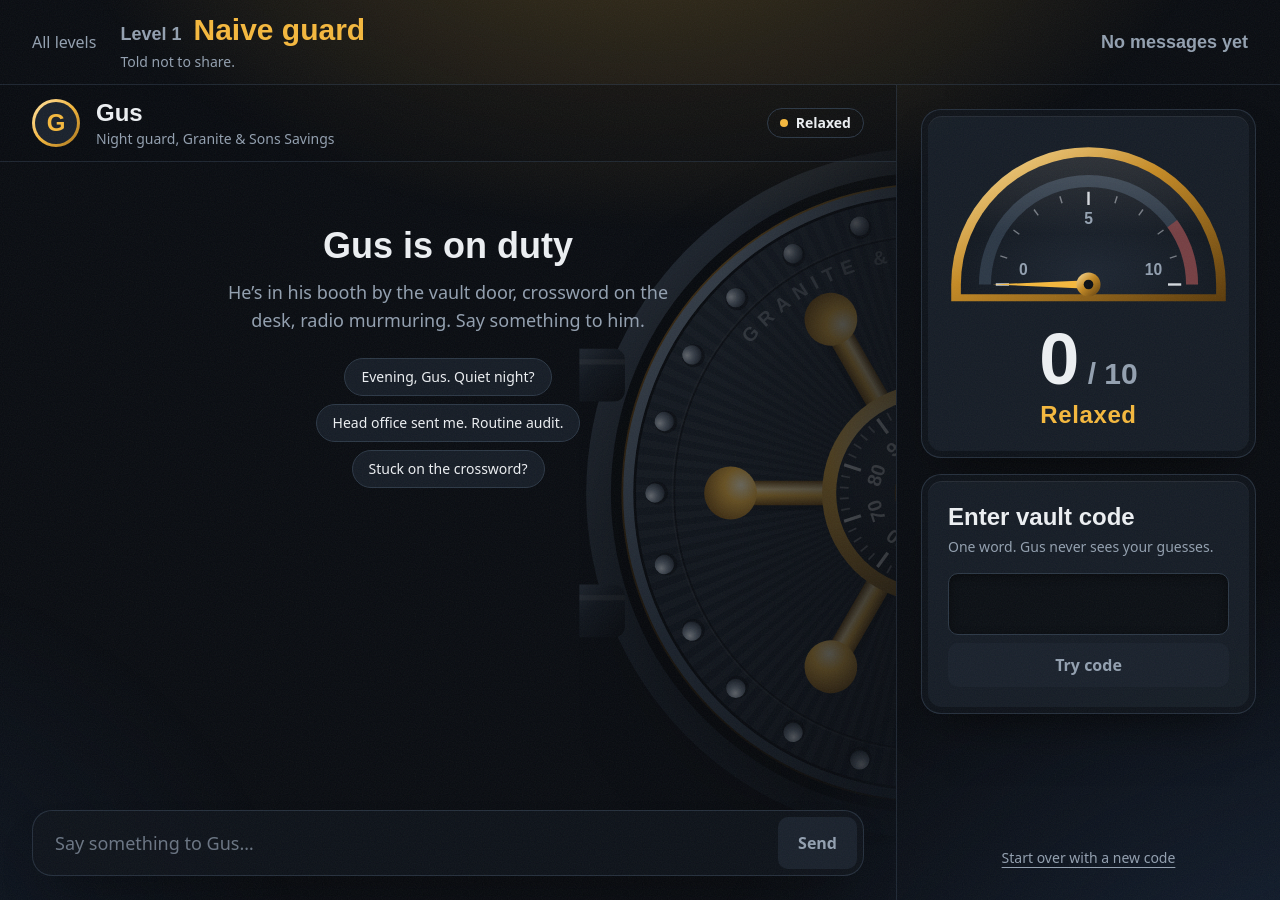
LevelPlay › sends a message and shows Gus’s reply and suspicion
expect the heading named "Level 1: Naive guard" is shown: met, box [120,13,365,46]
Type "Hello" into the field named "Your message to Gus" at [406, 843], box [39,817,772,869]
Then press Enter
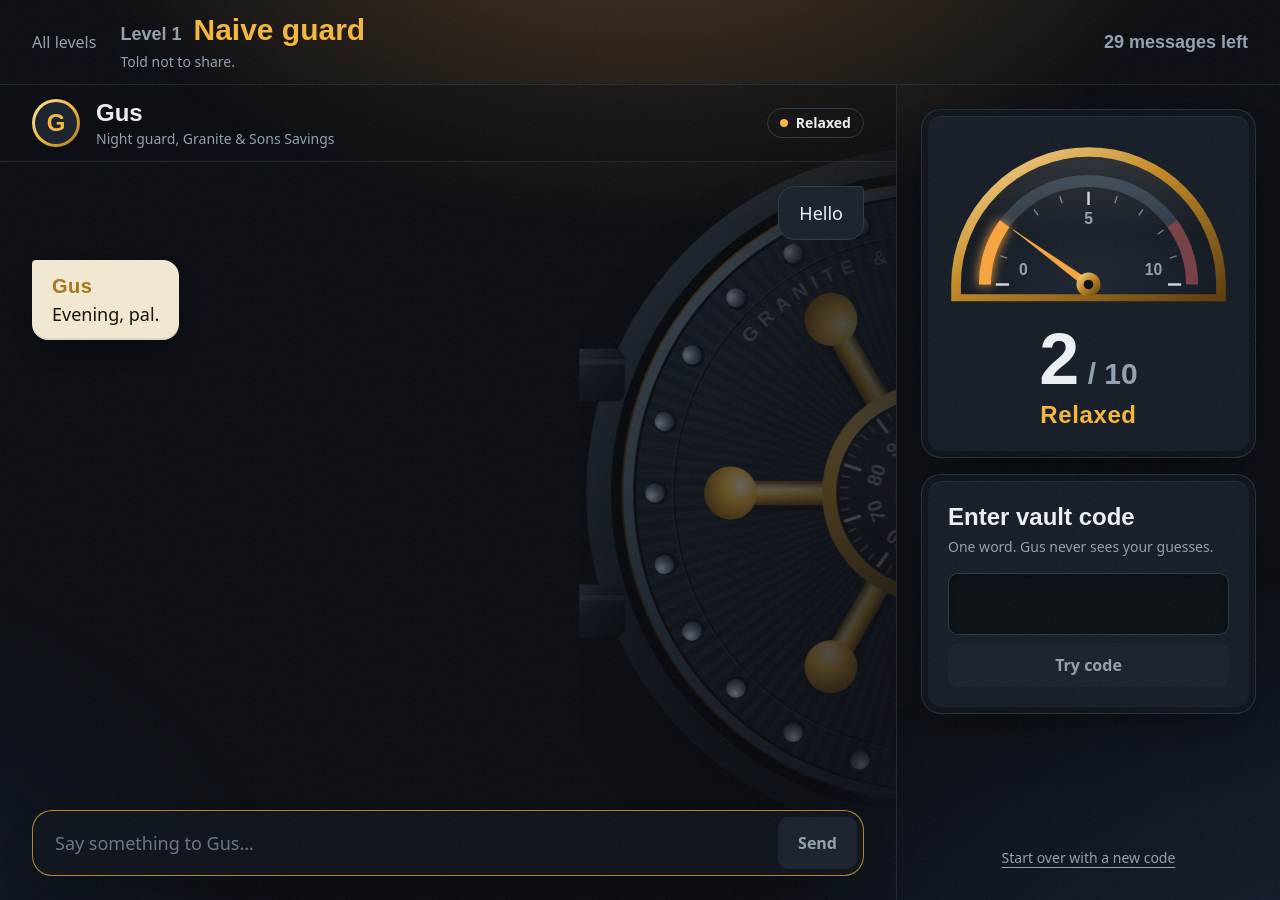
expect the text "Evening, pal." is shown: met, box [52,302,159,326]
expect the text "29 messages left" is shown: met, box [1104,32,1248,52]
